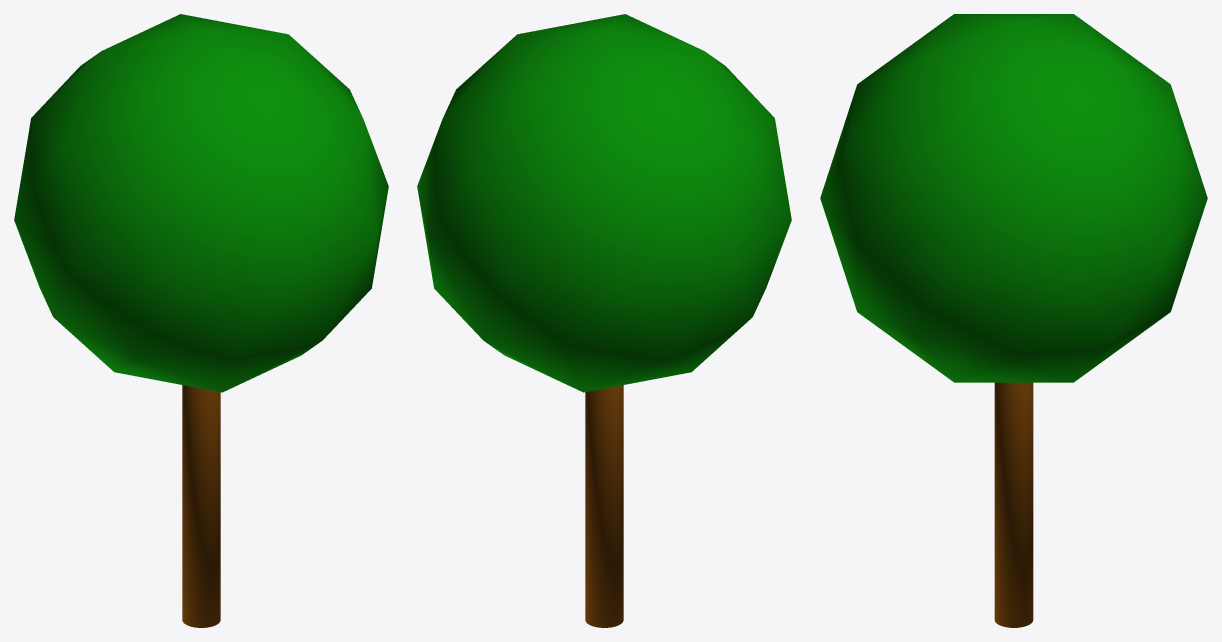
File: tree.gltf
3 renders of one model, left to right at view 1: azimuth 30°, elevation 25°; view 2: azimuth 150°, elevation 25°; view 3: azimuth 270°, elevation 25°, orthographic.
Parts seen in each view (by area): view 1: Icosphere, Cylinder; view 2: Icosphere, Cylinder; view 3: Icosphere, Cylinder.
Boxes of the visible parts, x1,y1,x2,y2 form: Icosphere: (14,14,388,392); Cylinder: (182,385,220,627); Icosphere: (417,14,791,392); Cylinder: (585,385,623,627); Icosphere: (820,14,1207,382); Cylinder: (994,382,1033,627).
Bounding box in the file's own units: 4.76 × 8.5 × 5.
